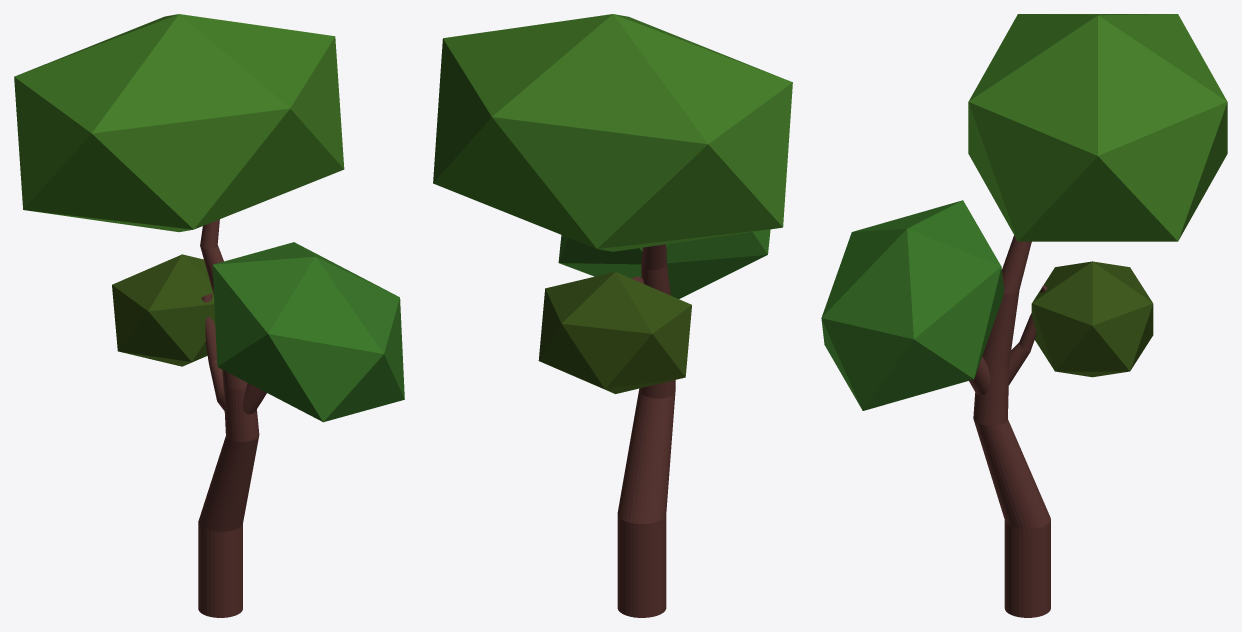
The model's file is Day Tree 1.fbx.
The picture shows the model from 3 angles, left to right: view 1: azimuth 30°, elevation 25°; view 2: azimuth 150°, elevation 25°; view 3: azimuth 270°, elevation 25°; orthographic projection. The views are drawn at different scales.
Visible parts, largest first — view 1: Icosphere.005, Icosphere.004, Small Tree, Icosphere.006, Cylinder.003; view 2: Icosphere.005, Icosphere.006, Small Tree, Icosphere.004; view 3: Icosphere.005, Icosphere.004, Small Tree, Icosphere.006, Cylinder.003.
Part boxes in pixels (x1,y1,x2,y2): Icosphere.005: (14,14,344,232); Icosphere.004: (212,242,404,422); Small Tree: (198,219,259,617); Icosphere.006: (112,254,215,366); Cylinder.003: (201,293,225,410); Icosphere.005: (433,14,792,251); Icosphere.006: (538,271,691,393); Small Tree: (617,244,675,617); Icosphere.004: (558,229,770,298); Icosphere.005: (968,14,1227,241); Icosphere.004: (821,200,1004,410); Small Tree: (973,235,1050,617); Icosphere.006: (1031,261,1153,377); Cylinder.003: (1008,285,1046,385).
Bounding box in the file's own units: 960 × 1680 × 1049.
